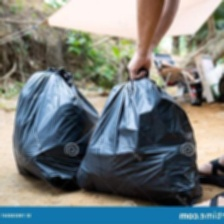plastic_bag: (69, 69, 207, 209), (11, 64, 105, 195)
